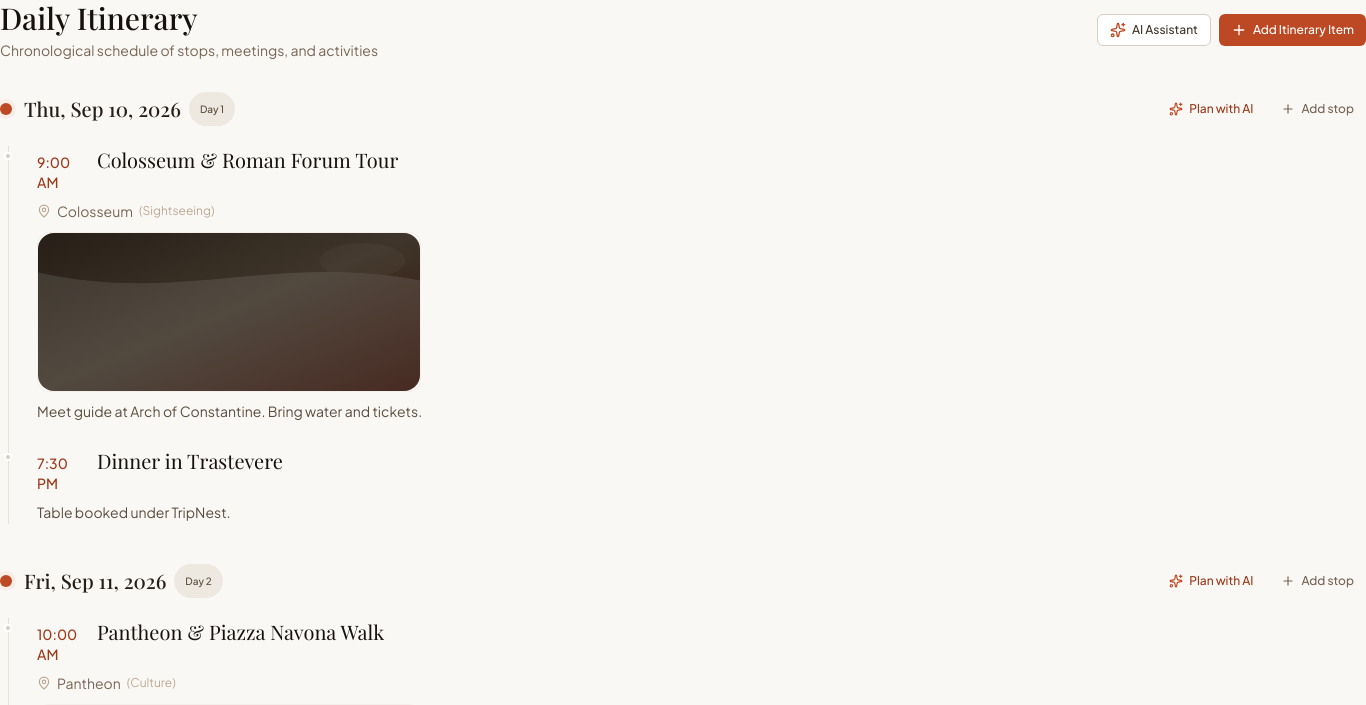
Test: TripItineraryPage › validates required fields and time bounds
Expected: the heading "Colosseum & Roman Forum Tour" is shown, [97,146,398,174]
What coordinates should you click on to do the following:
click the button "Add Itinerary Item"
I would click on:
 (1292, 30)
Its box is [1219,14,1365,46].
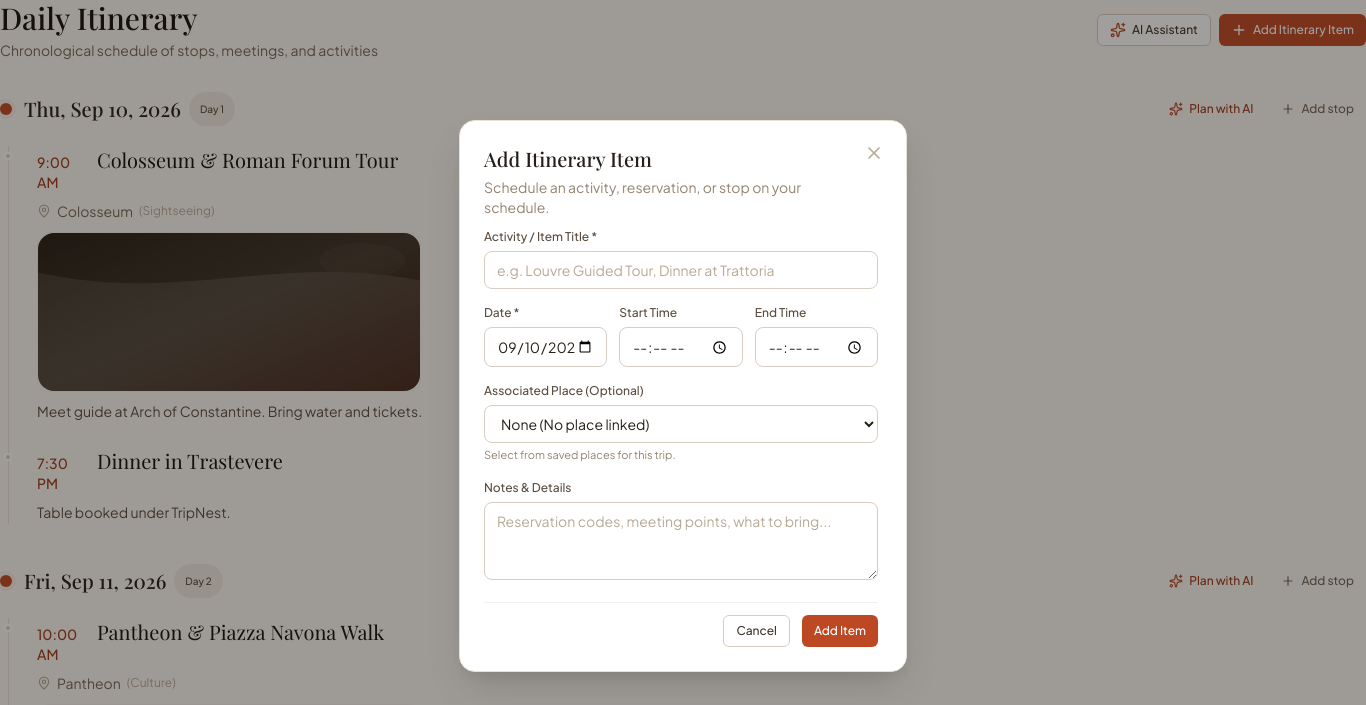
# Submit empty form
What coordinates should you click on to do the following:
click the button "Add Item"
I would click on:
 (840, 631)
Its box is [802,615,878,647].
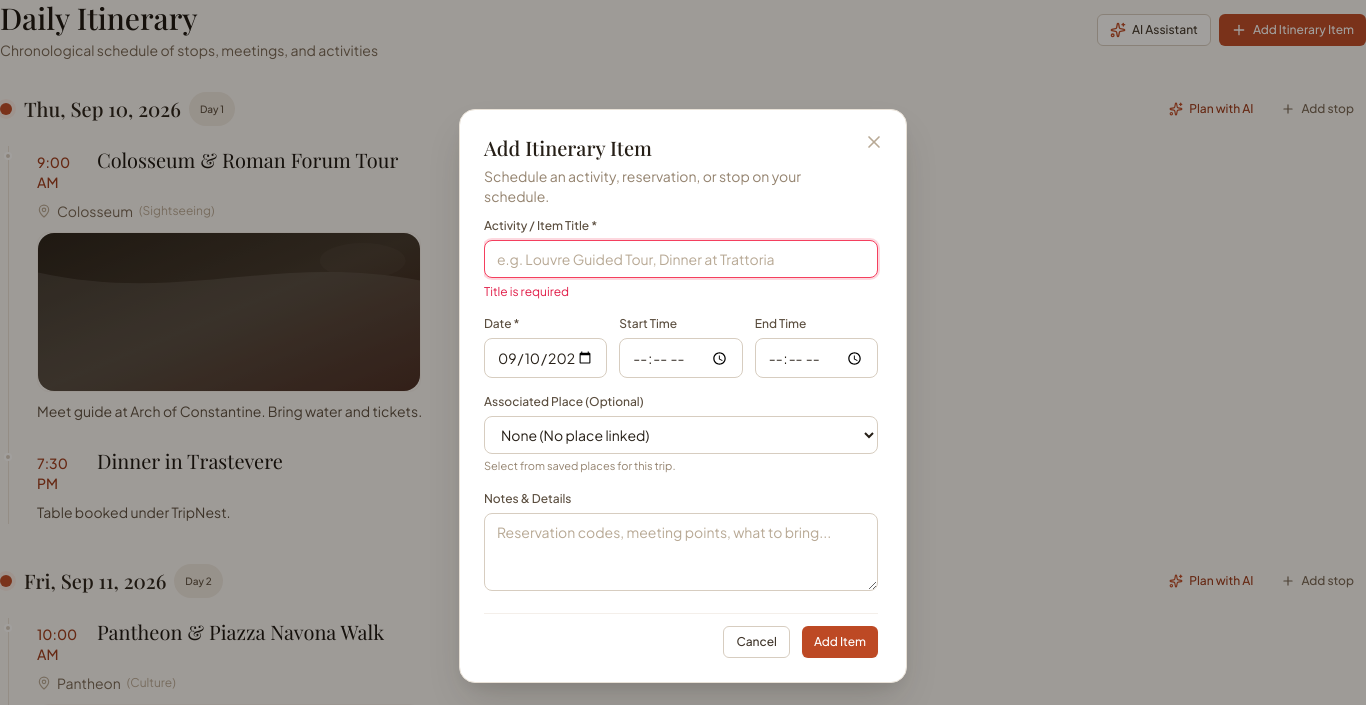
Expected: the text "Title is required" is shown, [484,284,569,299]
